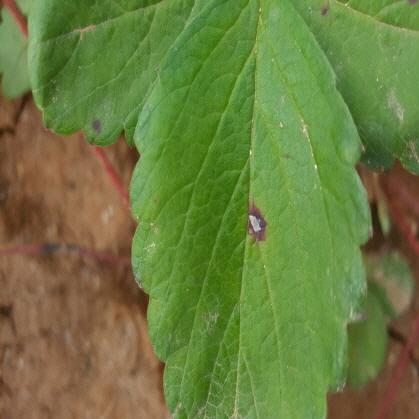Leaf Spot: (127, 0, 373, 418), (26, 0, 209, 151), (289, 0, 418, 175)
